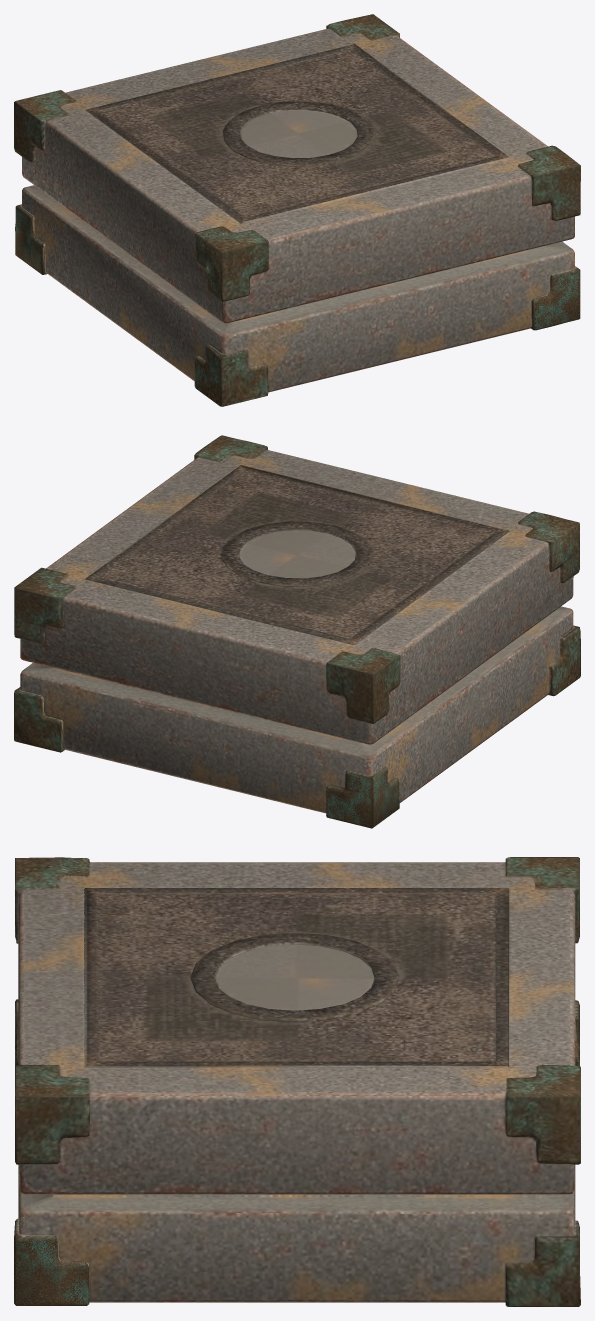
The model's file is tripo_convert_837dc130-08b0-4532-88c3-f84119b271a1.fbx.
3 renders of one model, top to bottom at view 1: azimuth 30°, elevation 25°; view 2: azimuth 150°, elevation 25°; view 3: azimuth 270°, elevation 25°, orthographic. The views are drawn at different scales.
Visible parts, largest first — view 1: tripo_node_837dc130; view 2: tripo_node_837dc130; view 3: tripo_node_837dc130.
Part boxes in pixels (<box>): tripo_node_837dc130: <box>14,14,580,406</box>; tripo_node_837dc130: <box>14,435,580,828</box>; tripo_node_837dc130: <box>14,857,580,1306</box>.
Size of the model in its own units: 0.998 by 0.4121 by 0.998.
1 material, 1 textured.
